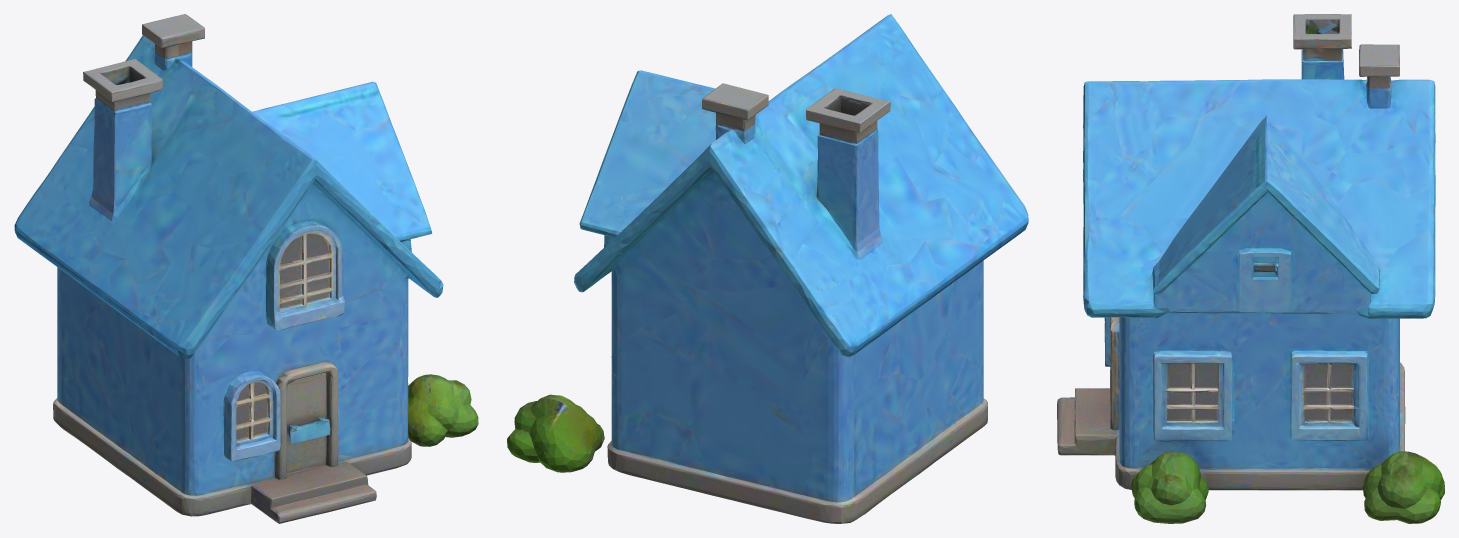
Rendered from house_c.glb.
The picture shows the model from 3 angles, left to right: view 1: azimuth 30°, elevation 25°; view 2: azimuth 150°, elevation 25°; view 3: azimuth 270°, elevation 25°; orthographic projection. The views are drawn at different scales.
Visible parts, largest first — view 1: temp_Material.001_0; view 2: temp_Material.001_0; view 3: temp_Material.001_0.
Part boxes in pixels (bbox=[...]): temp_Material.001_0: bbox=[14, 14, 478, 523]; temp_Material.001_0: bbox=[507, 14, 1028, 523]; temp_Material.001_0: bbox=[1057, 14, 1444, 523].
Size of the model in its own units: 1.87 by 2 by 1.86.
Materials: 1 (1 with a texture image).
